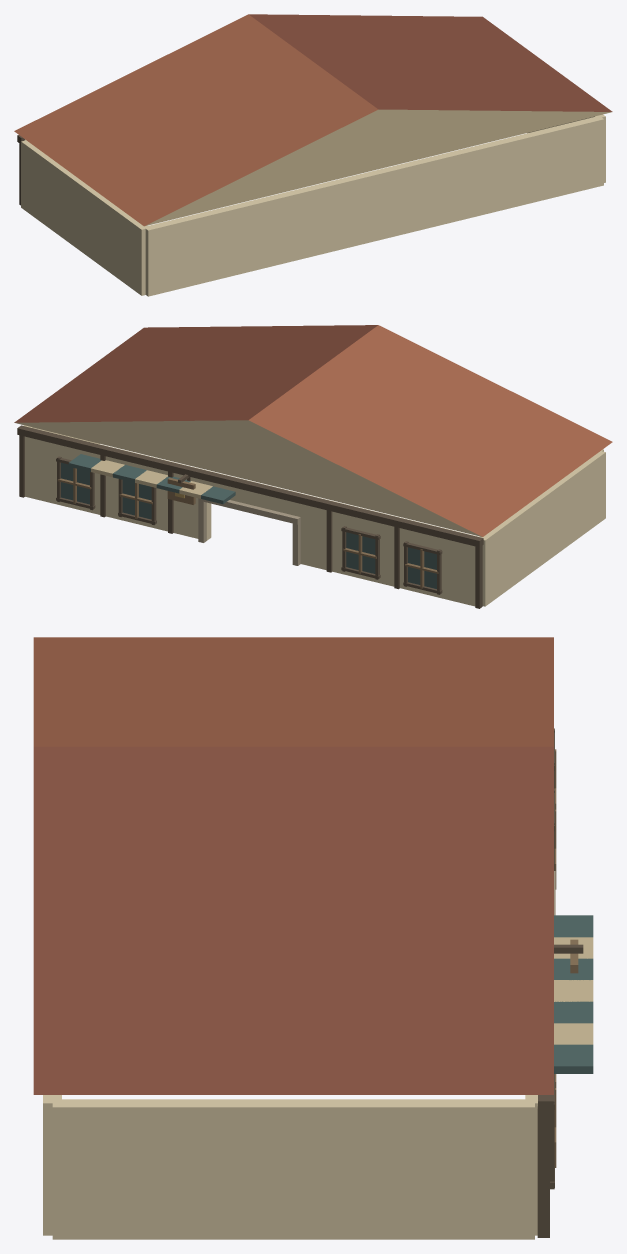
Rendered from WalkTown_Shop_Cover.fbx.
3 views of the same model, one above another, from view 1: azimuth 30°, elevation 25°; view 2: azimuth 150°, elevation 25°; view 3: azimuth 270°, elevation 25° (orthographic). The views are drawn at different scales.
Parts seen in each view (by area): view 1: WalkTown_Shop_Cover; view 2: WalkTown_Shop_Cover; view 3: WalkTown_Shop_Cover.
Part boxes in pixels (x1,y1,x2,y2): WalkTown_Shop_Cover: [14, 14, 612, 296]; WalkTown_Shop_Cover: [14, 325, 612, 608]; WalkTown_Shop_Cover: [33, 637, 593, 1239].
Size of the model in its own units: 15.94 by 4.34 by 8.24.
